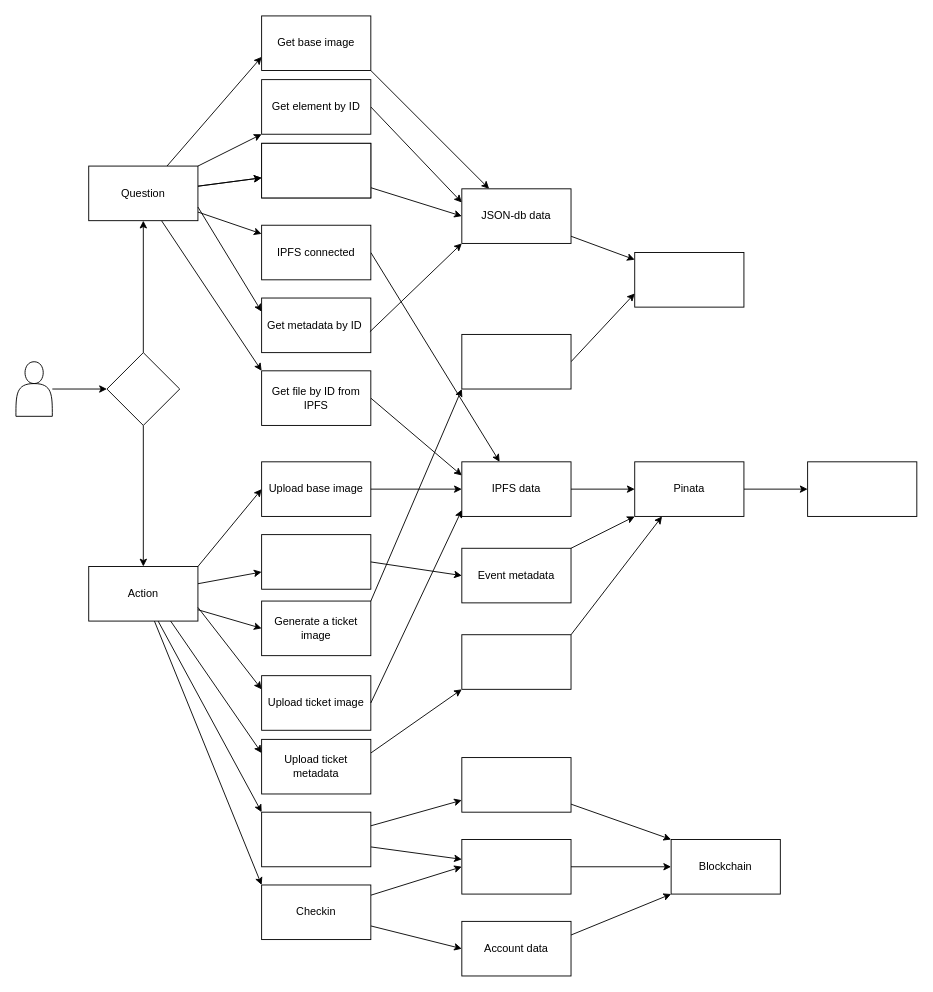
Some shapes in this 933 by 992 pixel diagram are drawn without their labels. The shapes that lost their labels are listed below. From the top down, each one's centre as x and y in pixels, then its label:
At [316,170]: "Get file by ID".
At [689,279]: "JSON-db".
At [516,361]: "JSON-db upload data".
At [143,388]: "Interaction".
At [862,488]: "IPFS".
At [316,561]: "Upload event metadata".
At [516,661]: "Ticket metadata".
At [516,784]: "Wallet".
At [316,839]: "Buy a ticket".
At [516,866]: "Contract data".
